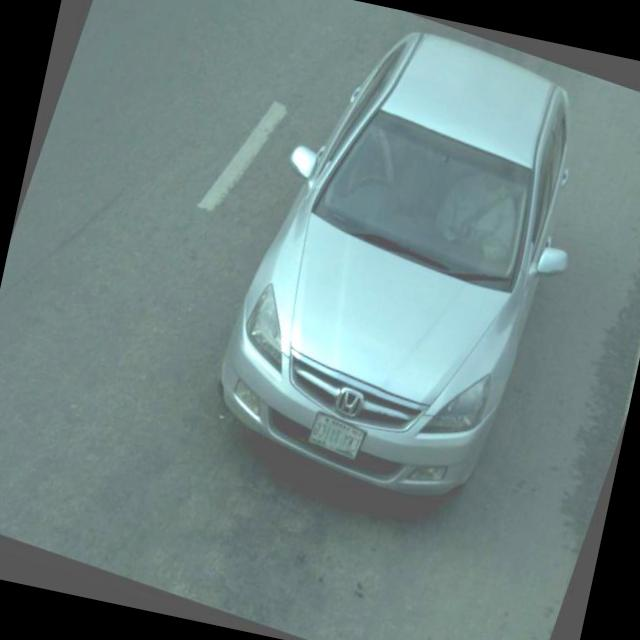person_with_seatbelt: (420, 148, 537, 278)
